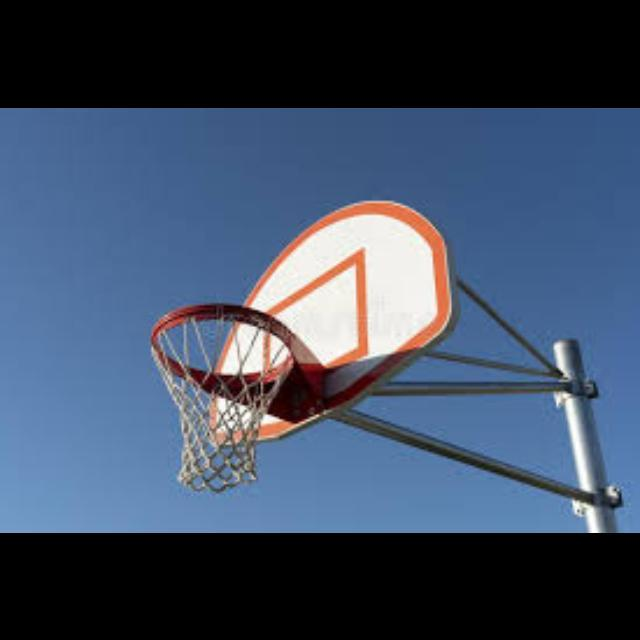rim: (152, 302, 290, 488)
